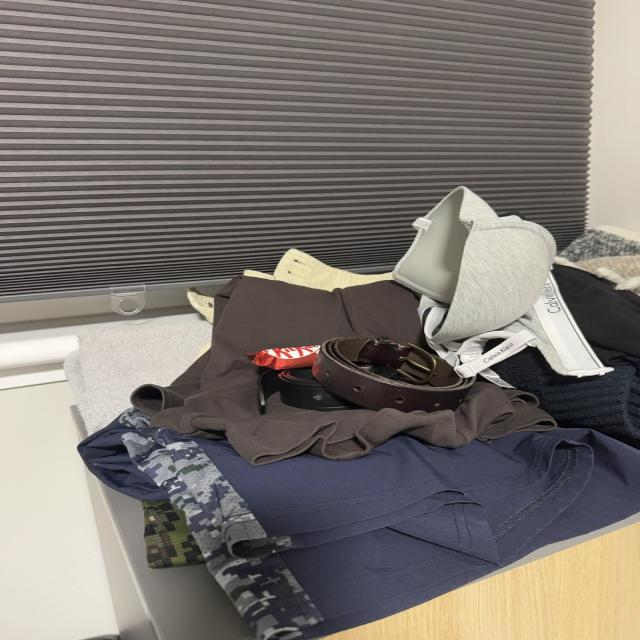chocolate: (248, 335, 342, 371)
